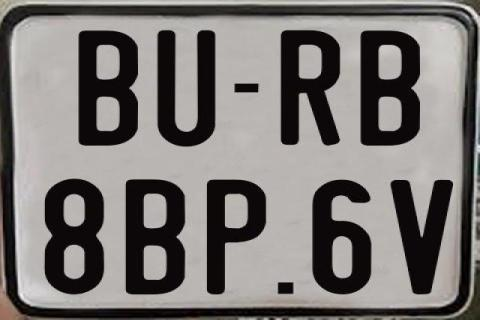0: (41, 179, 106, 297), (312, 179, 373, 297)
B: (79, 31, 144, 150), (360, 29, 423, 148), (126, 178, 187, 296)
P: (204, 177, 265, 293)
R: (278, 31, 342, 150)
U: (154, 29, 218, 149)
V: (389, 180, 454, 298)
